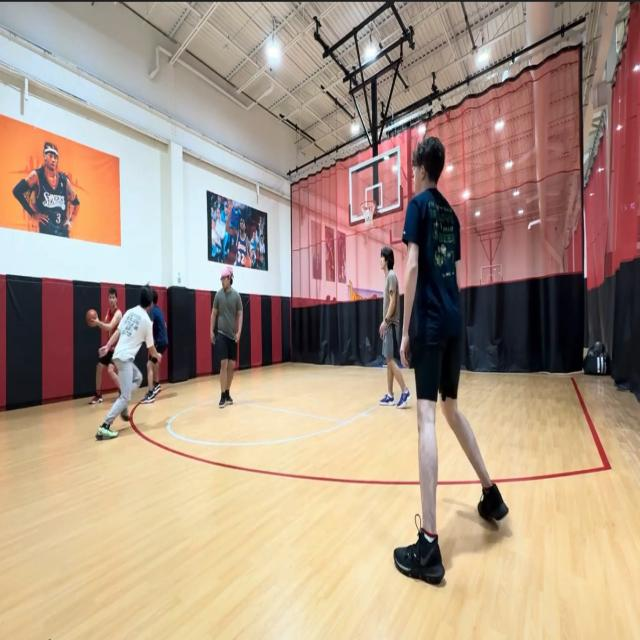Basketball: (86, 308, 98, 326)
Basketball Rim: (360, 200, 376, 224)
